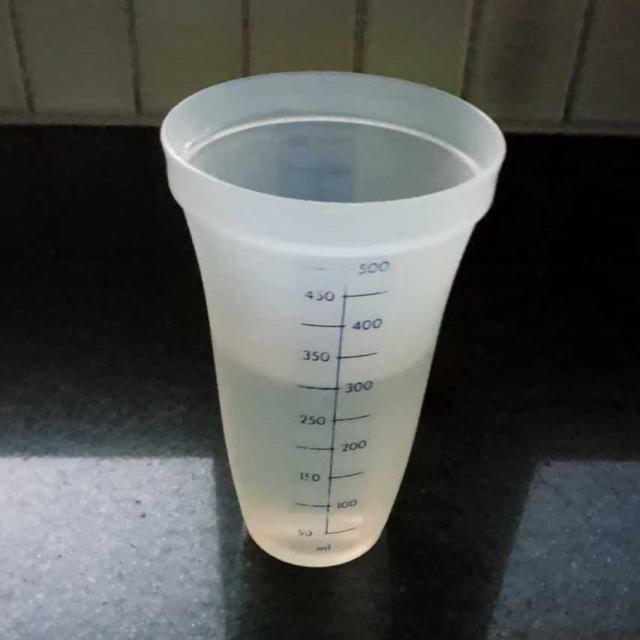drink: (211, 344, 428, 568)
